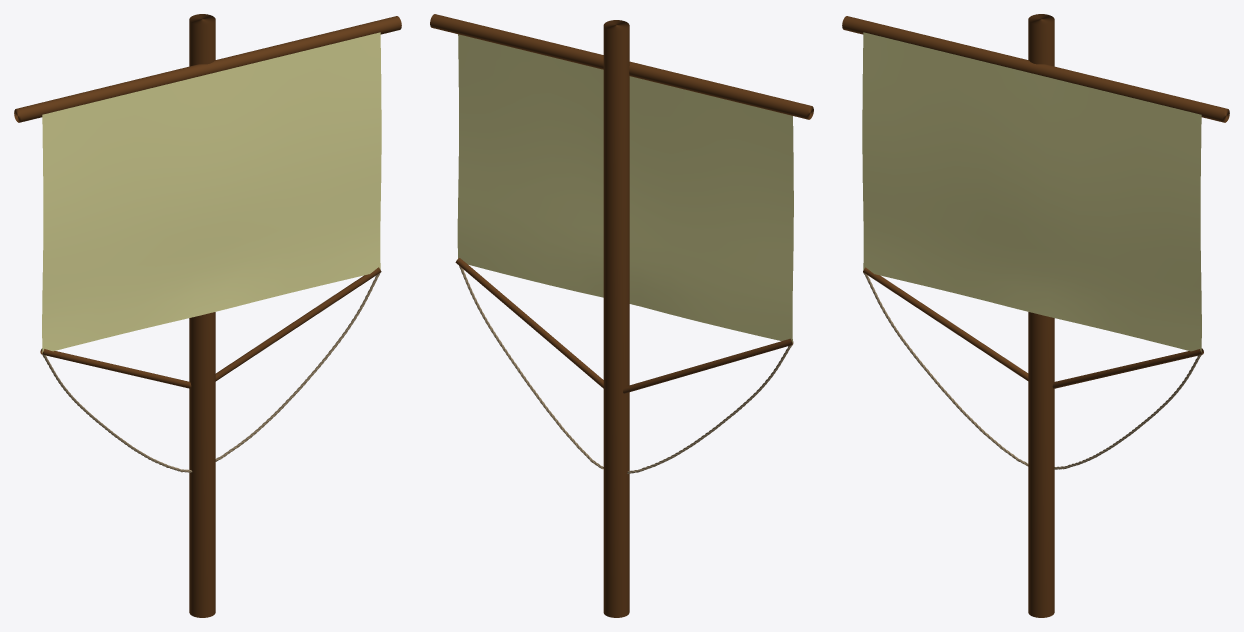
The model's file is Mast and Sail 2.fbx.
3 renders of one model, left to right at view 1: azimuth 30°, elevation 25°; view 2: azimuth 150°, elevation 25°; view 3: azimuth 330°, elevation 25°, orthographic.
Visible parts, largest first — view 1: Plane, Cylinder, Cylinder.001, Cylinder.002, Cylinder.003, Circle.002, Circle.001; view 2: Plane, Cylinder, Cylinder.001, Cylinder.002, Cylinder.003, Circle.002, Circle.001; view 3: Plane, Cylinder, Cylinder.001, Cylinder.003, Cylinder.002, Circle.001, Circle.002.
Boxes of the visible parts, box(x1,y1,x2,y2) form: Plane: box(42, 32, 381, 353); Cylinder: box(189, 14, 215, 617); Cylinder.001: box(14, 16, 401, 122); Cylinder.002: box(215, 267, 381, 381); Cylinder.003: box(40, 348, 191, 388); Circle.002: box(215, 272, 380, 461); Circle.001: box(42, 354, 192, 472); Plane: box(457, 34, 793, 343); Cylinder: box(603, 20, 629, 617); Cylinder.001: box(430, 14, 813, 119); Cylinder.002: box(455, 258, 603, 388); Cylinder.003: box(623, 338, 793, 393); Circle.002: box(459, 266, 603, 469); Circle.001: box(627, 345, 792, 473); Plane: box(862, 32, 1201, 352); Cylinder: box(1028, 14, 1054, 617); Cylinder.001: box(842, 16, 1229, 122); Cylinder.003: box(863, 267, 1028, 380); Cylinder.002: box(1052, 348, 1203, 388); Circle.001: box(863, 272, 1028, 466); Circle.002: box(1054, 353, 1202, 469).
Bounding box in the file's own units: 291 × 433 × 22.08.
